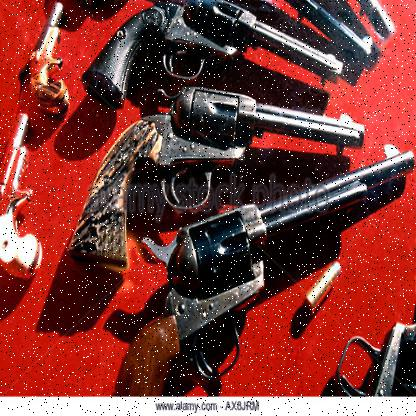pistol: (109, 143, 415, 397), (66, 87, 364, 267), (77, 1, 344, 109), (1, 112, 47, 285), (7, 2, 71, 118)
